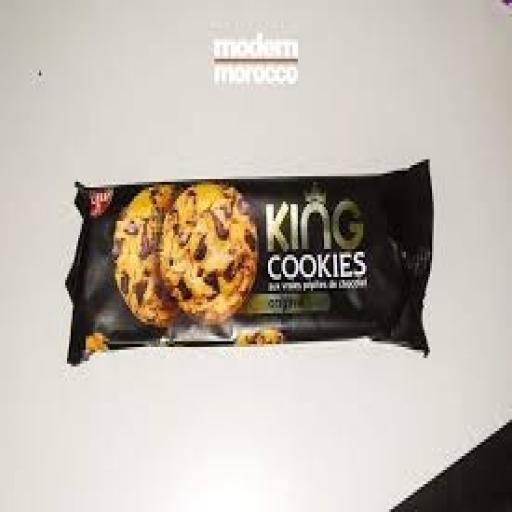king-cooking: (47, 130, 473, 398)
